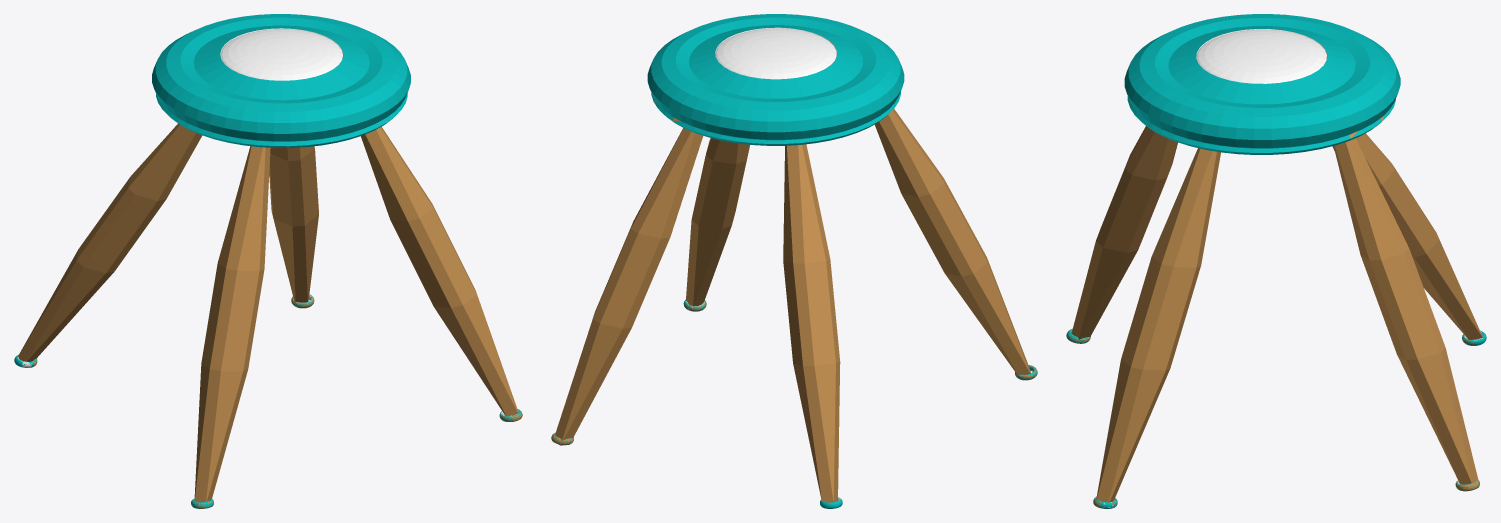
File: chair_VR2_Nov18.glb
The picture shows the model from 3 angles, left to right: view 1: azimuth 30°, elevation 25°; view 2: azimuth 150°, elevation 25°; view 3: azimuth 270°, elevation 25°; orthographic projection. The views are drawn at different scales.
Visible parts, largest first — view 1: chair; view 2: chair; view 3: chair.
Boxes of the visible parts, bbox=[...] form: chair: bbox=[14, 14, 522, 508]; chair: bbox=[551, 14, 1037, 508]; chair: bbox=[1066, 14, 1486, 508].
Size of the model in its own units: 0.4991 by 0.4997 by 0.5023.
